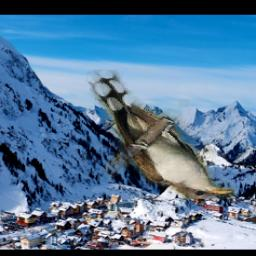Cuckoo: (85, 71, 234, 200)
